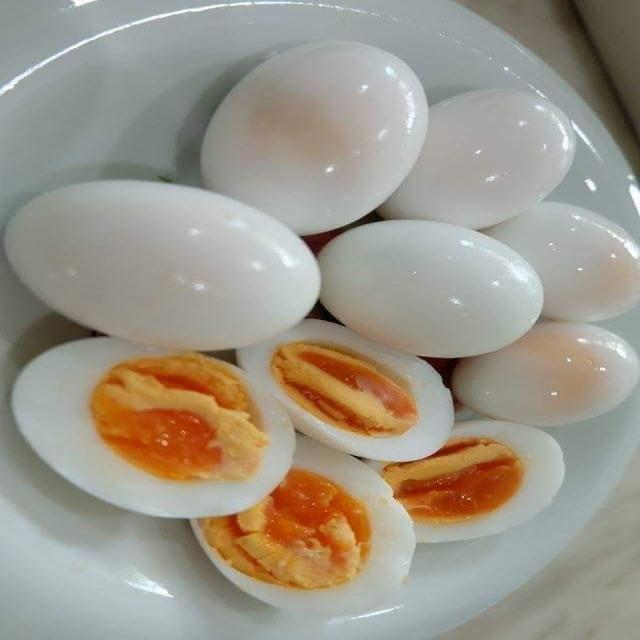egg boiled: (4, 180, 319, 349), (11, 338, 294, 517), (201, 42, 427, 234), (192, 436, 414, 615), (318, 220, 542, 357), (237, 320, 452, 460), (378, 89, 574, 229), (370, 420, 564, 541), (452, 322, 639, 427), (483, 202, 639, 321)
